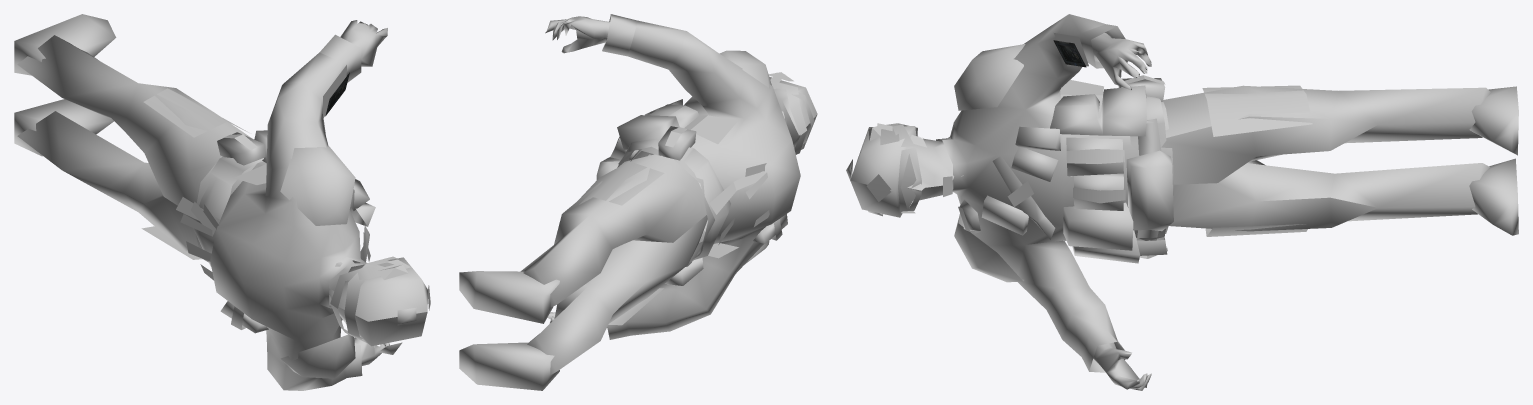
The model's file is c_mul_mp_pmc_lmg_fb_LOD3.obj.
3 views of the same model, side by side, from view 1: azimuth 30°, elevation 25°; view 2: azimuth 150°, elevation 25°; view 3: azimuth 270°, elevation 25° (orthographic). The views are drawn at different scales.
Parts seen in each view (by area): view 1: mtl_c_mul_mp_pmc_upperbody1, mtl_c_mul_mp_pmc_lbr_2_1, mtl_c_mul_mp_pmc_gear_main_1, mtl_c_mul_mp_pmc_lmg_gear, mtl_c_mul_mp_pmc_helmet1, mtl_c_mul_mp_pmc_gloves3; view 2: mtl_c_mul_mp_pmc_upperbody1, mtl_c_mul_mp_pmc_lbr_2_1, mtl_c_mul_mp_pmc_gear_main_1, mtl_c_mul_mp_pmc_lmg_gear, mtl_c_mul_mp_pmc_helmet1, mtl_c_mul_mp_pmc_gloves3; view 3: mtl_c_mul_mp_pmc_lbr_2_1, mtl_c_mul_mp_pmc_upperbody1, mtl_c_mul_mp_pmc_gear_main_1, mtl_c_mul_mp_pmc_lmg_gear, mtl_c_mul_mp_pmc_helmet1, mtl_c_mul_mp_pmc_gloves3, mtl_c_mul_mp_pmc_head_1.
Part boxes in pixels (x1,y1,x2,y2): mtl_c_mul_mp_pmc_upperbody1: [176, 34, 366, 390]; mtl_c_mul_mp_pmc_lbr_2_1: [17, 35, 252, 251]; mtl_c_mul_mp_pmc_gear_main_1: [14, 14, 375, 333]; mtl_c_mul_mp_pmc_lmg_gear: [217, 132, 355, 378]; mtl_c_mul_mp_pmc_helmet1: [330, 256, 430, 354]; mtl_c_mul_mp_pmc_gloves3: [340, 20, 389, 365]; mtl_c_mul_mp_pmc_upperbody1: [602, 14, 800, 339]; mtl_c_mul_mp_pmc_lbr_2_1: [520, 154, 707, 375]; mtl_c_mul_mp_pmc_gear_main_1: [459, 99, 787, 390]; mtl_c_mul_mp_pmc_lmg_gear: [596, 50, 771, 285]; mtl_c_mul_mp_pmc_helmet1: [768, 72, 817, 154]; mtl_c_mul_mp_pmc_gloves3: [545, 16, 609, 327]; mtl_c_mul_mp_pmc_lbr_2_1: [1161, 85, 1491, 231]; mtl_c_mul_mp_pmc_upperbody1: [936, 14, 1174, 372]; mtl_c_mul_mp_pmc_gear_main_1: [958, 85, 1518, 263]; mtl_c_mul_mp_pmc_lmg_gear: [954, 44, 1173, 282]; mtl_c_mul_mp_pmc_helmet1: [846, 123, 952, 217]; mtl_c_mul_mp_pmc_gloves3: [1091, 33, 1151, 390]; mtl_c_mul_mp_pmc_head_1: [905, 135, 963, 200].
Bounding box in the file's own units: 68.49 × 106 × 186.
